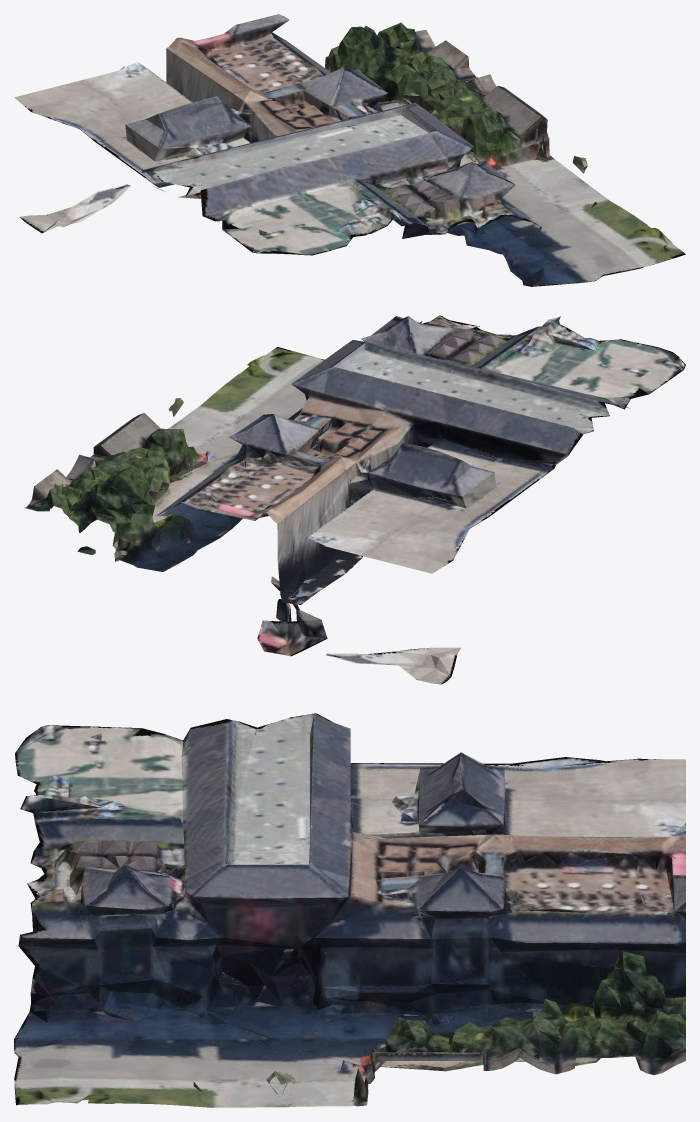
3 renders of one model, top to bottom at view 1: azimuth 30°, elevation 25°; view 2: azimuth 150°, elevation 25°; view 3: azimuth 270°, elevation 25°, orthographic. The views are drawn at different scales.
Size of the model in its own units: 99.26 by 37.75 by 107.
Materials: 1 (1 with a texture image).
